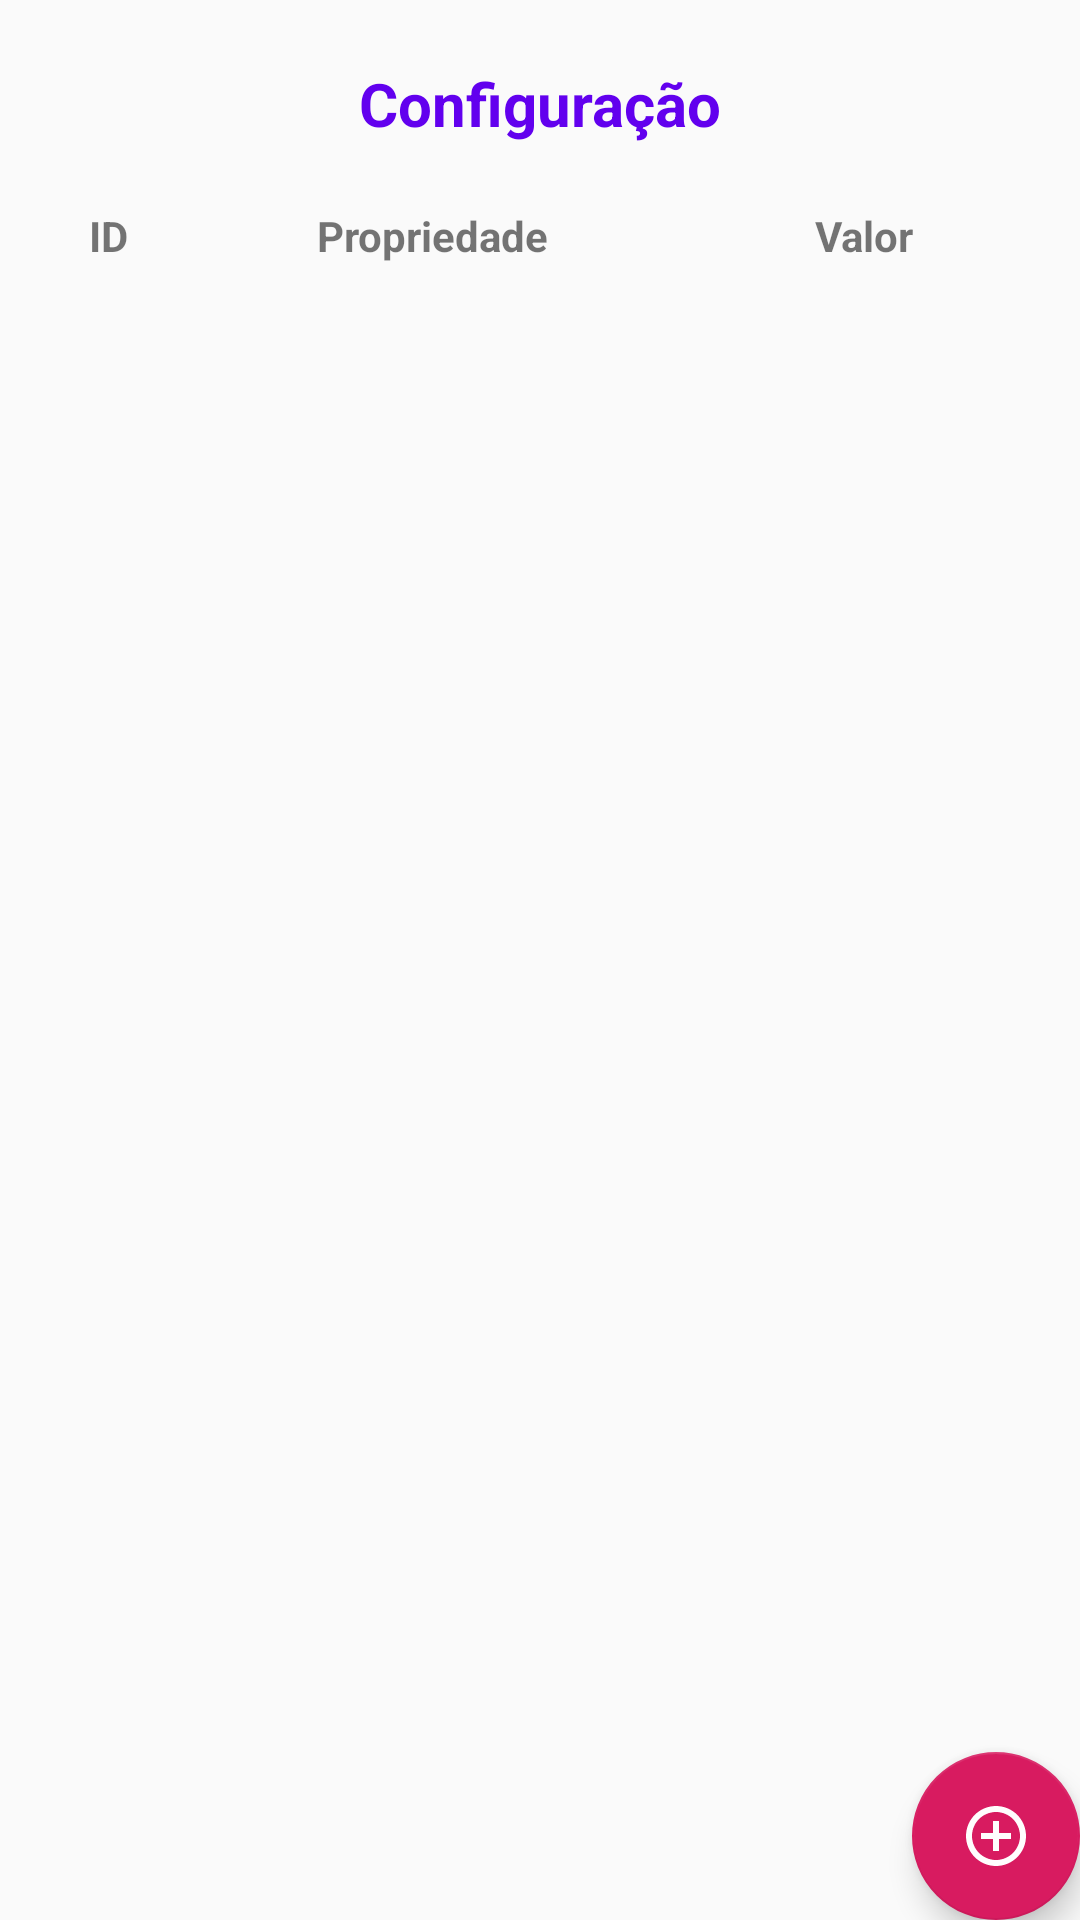

Point at icon controls on the screen. Image size 1080px×1920px, points as [x,y].
add circle: [996,1836]
